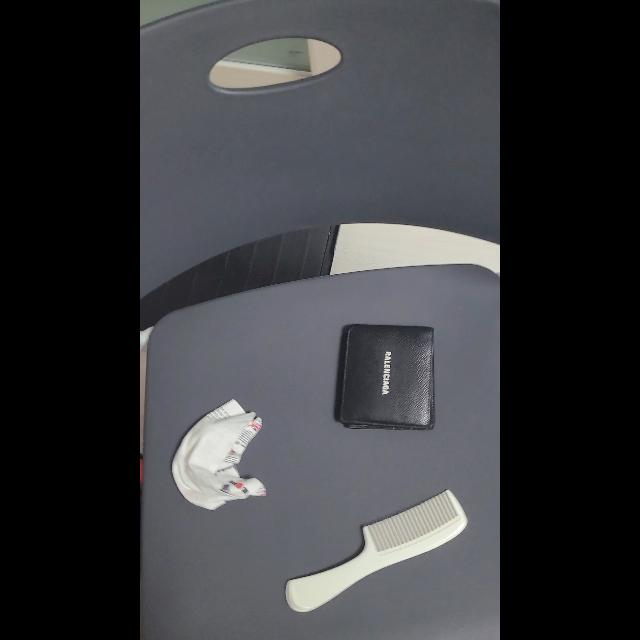COMB: (286, 490, 468, 612)
Glasses cleaning cloth: (172, 398, 266, 509)
WALLET: (334, 324, 434, 430)
